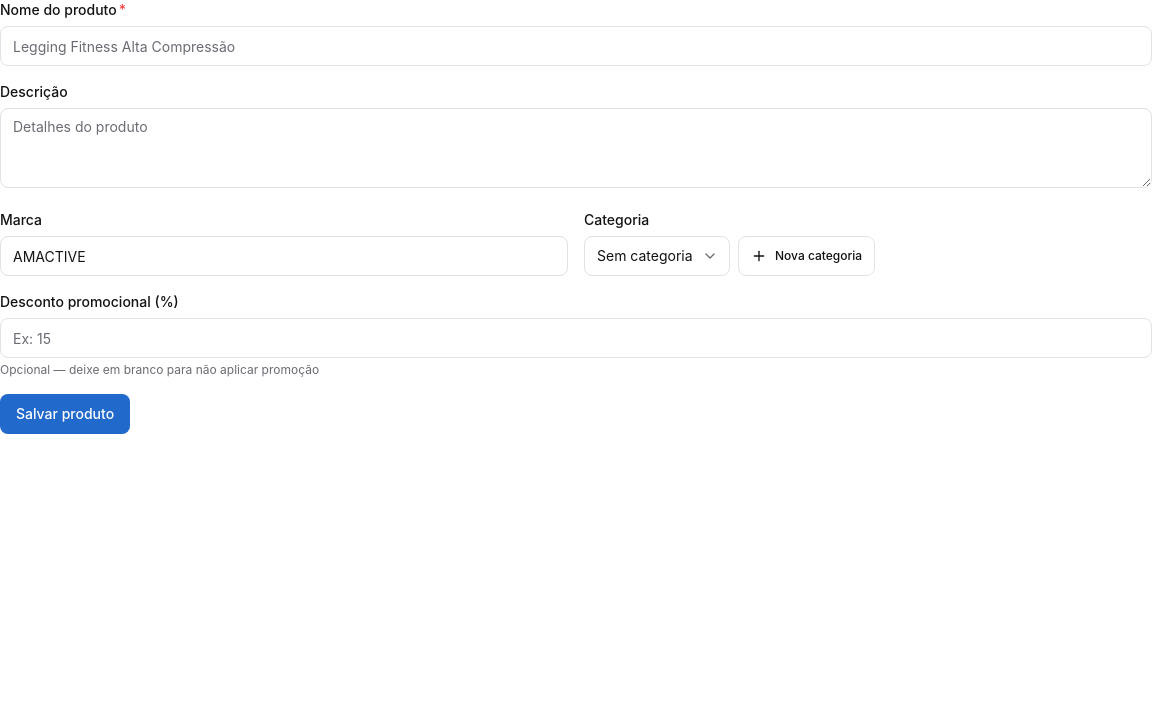
Test case: ProdutoForm — criação de categoria inline › abre o modal de nova categoria ao clicar no botão
This screenshot has width=1152, height=720.
Click the button "Nova categoria" at {"x": 807, "y": 256}, box [738,236,875,276]
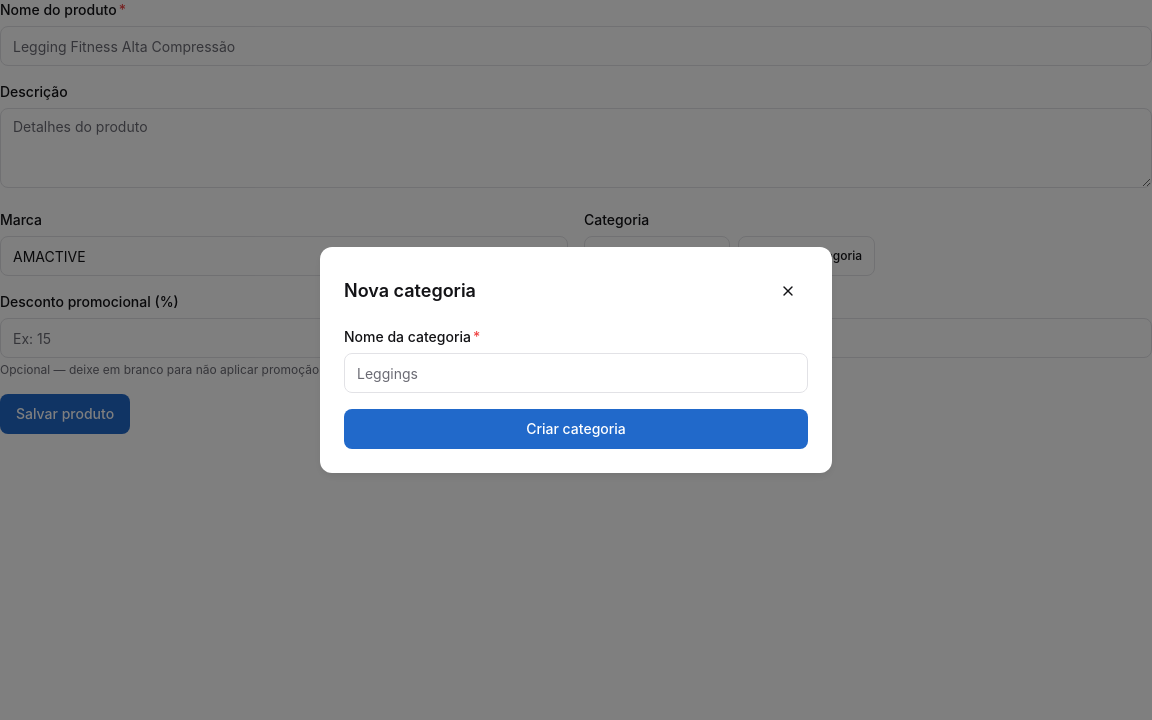
Expected: the dialog "Nova categoria" is shown, [320,247,832,473]
